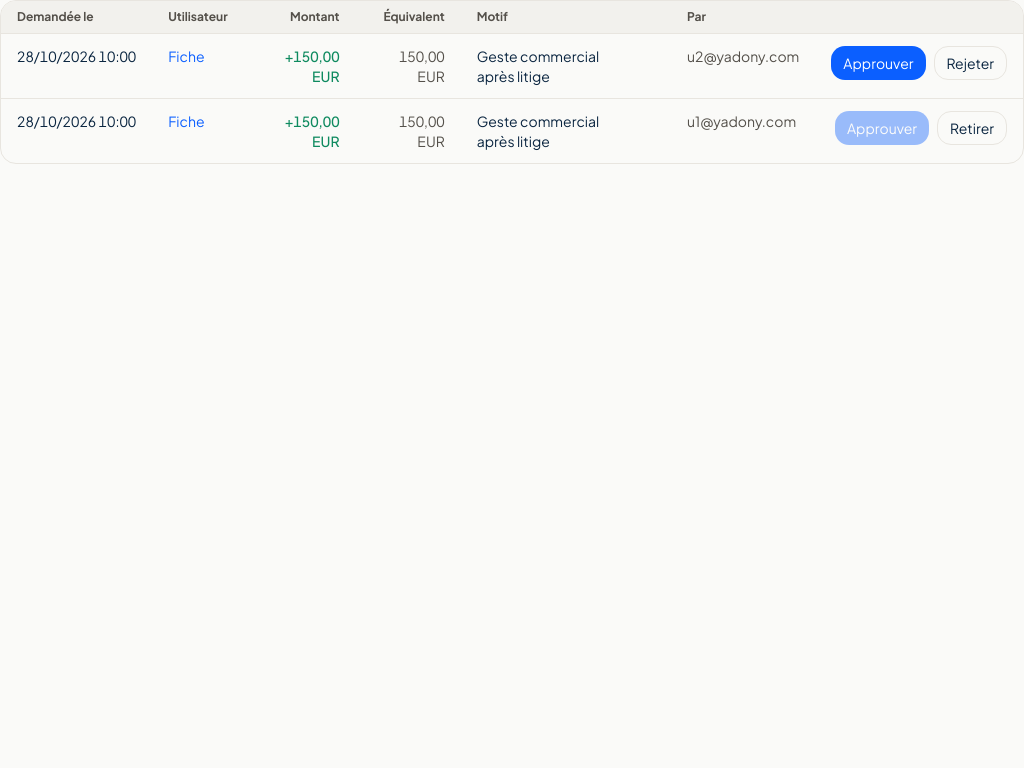
Scenario: pages/ajustements-solde › approuver la demande d’un autre : confirmation puis appel et message de succès
Step 1. Click the button with test id "approval-approve-r-other" → (878, 63), box [831,46,926,80]
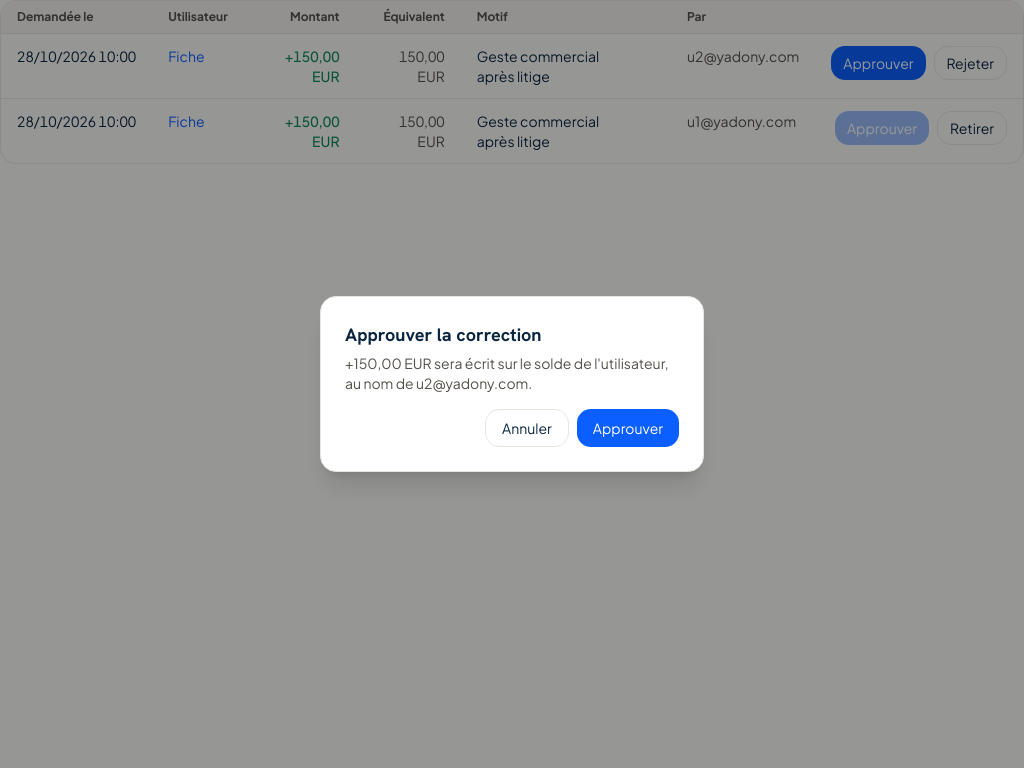
Expected: the dialog shows "u2@yadony.com", [345,354,669,392]
Step 2. Click the button with test id "confirm" → (628, 428), box [577,409,679,447]
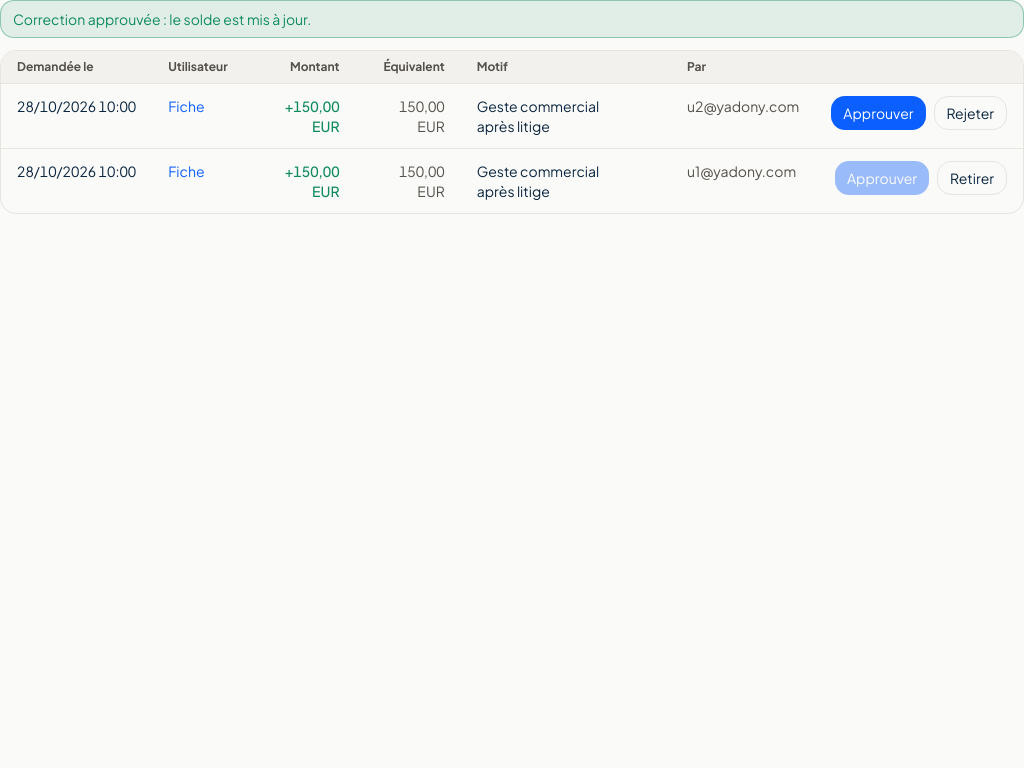
Expected: the message with test id "approvals-success" shows "approuvée", [13,10,311,28]
